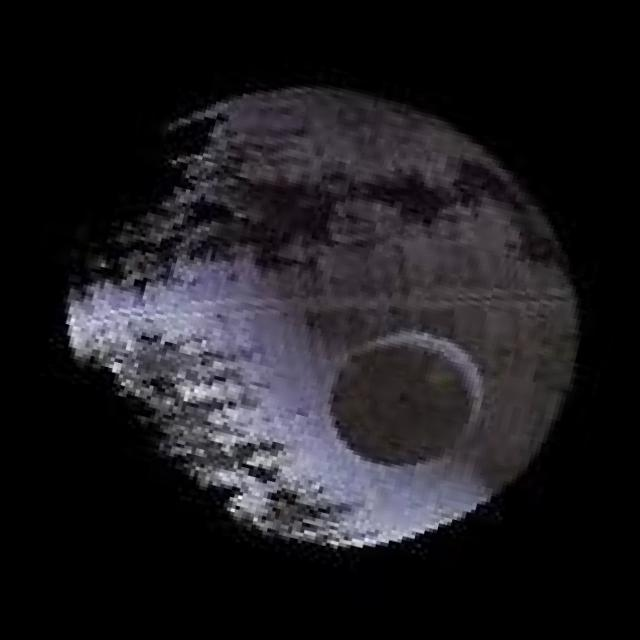Death Star: (12, 29, 633, 608)
